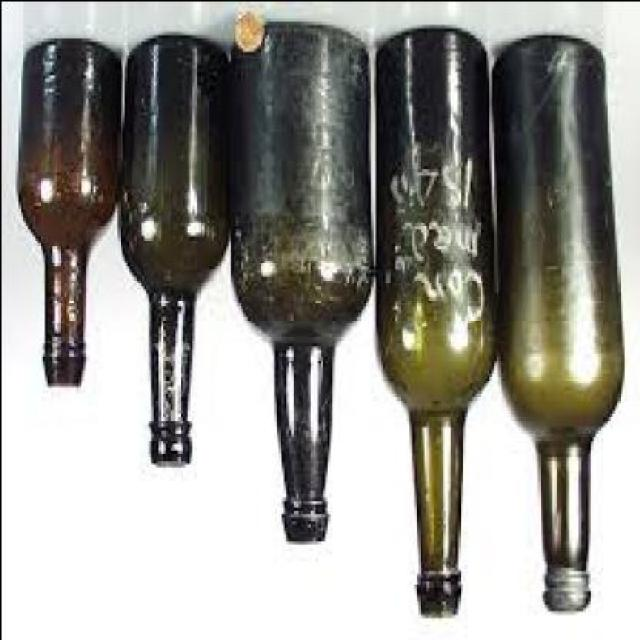GLASS: (493, 38, 625, 613), (232, 26, 372, 543), (379, 34, 498, 620), (120, 37, 232, 469), (20, 44, 126, 388)
METAL: (543, 573, 592, 610)
